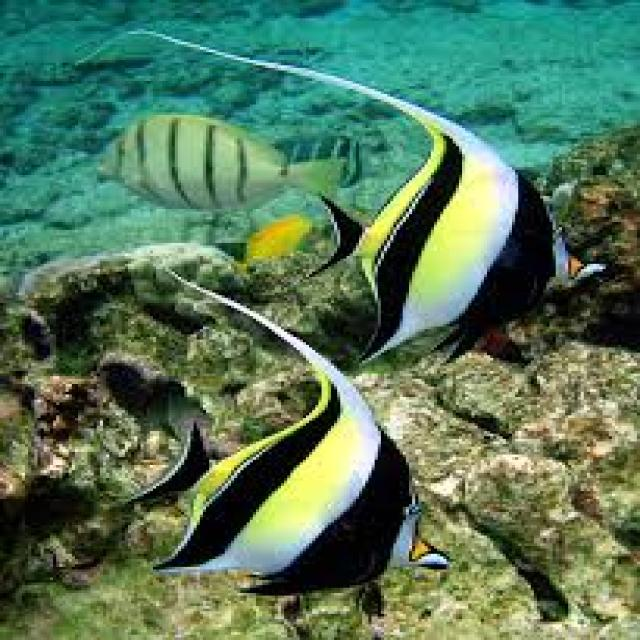MorishIdol: (139, 31, 612, 368), (115, 264, 452, 637)
